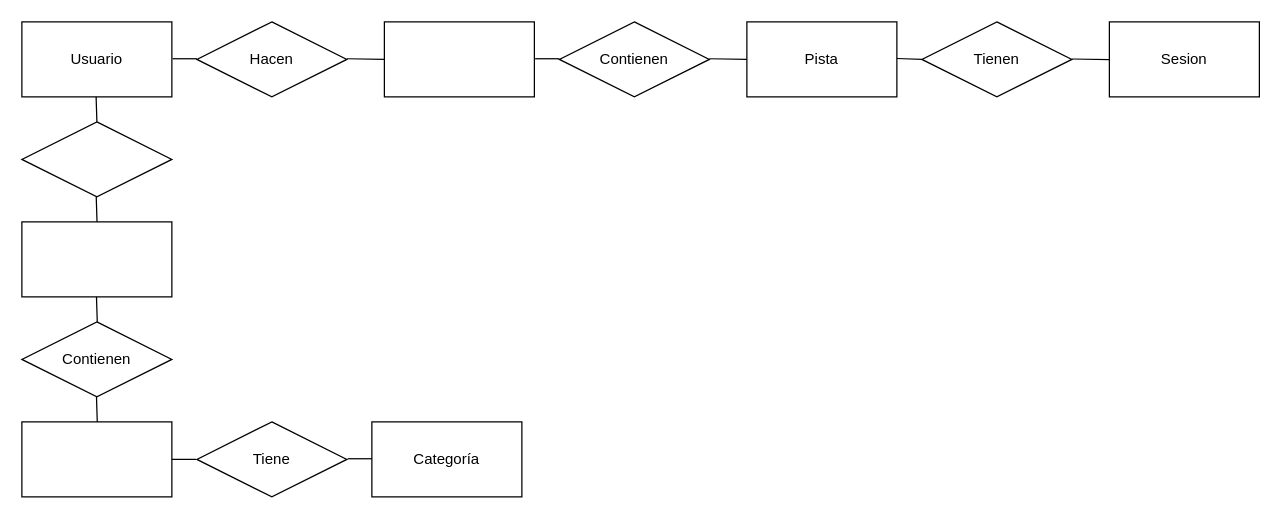
The diagram is 1281 pixels wide and 519 high, and some of its shapes have lost their labels. Here are the shapes that lost their labels. From the top down, the box of each, then its label:
(383, 21, 534, 97): Reserva
(21, 121, 172, 197): Realizan
(21, 221, 172, 297): Pedidos
(21, 421, 172, 497): Producto
